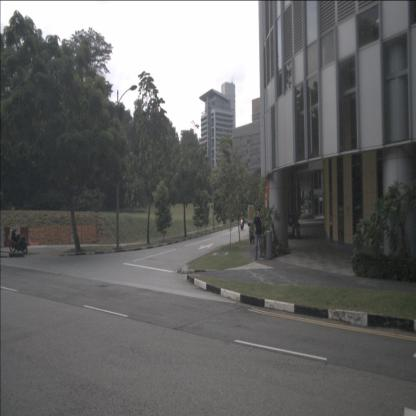barrier: (8, 226, 20, 247), (21, 226, 30, 246), (0, 226, 6, 247), (4, 226, 10, 247)
